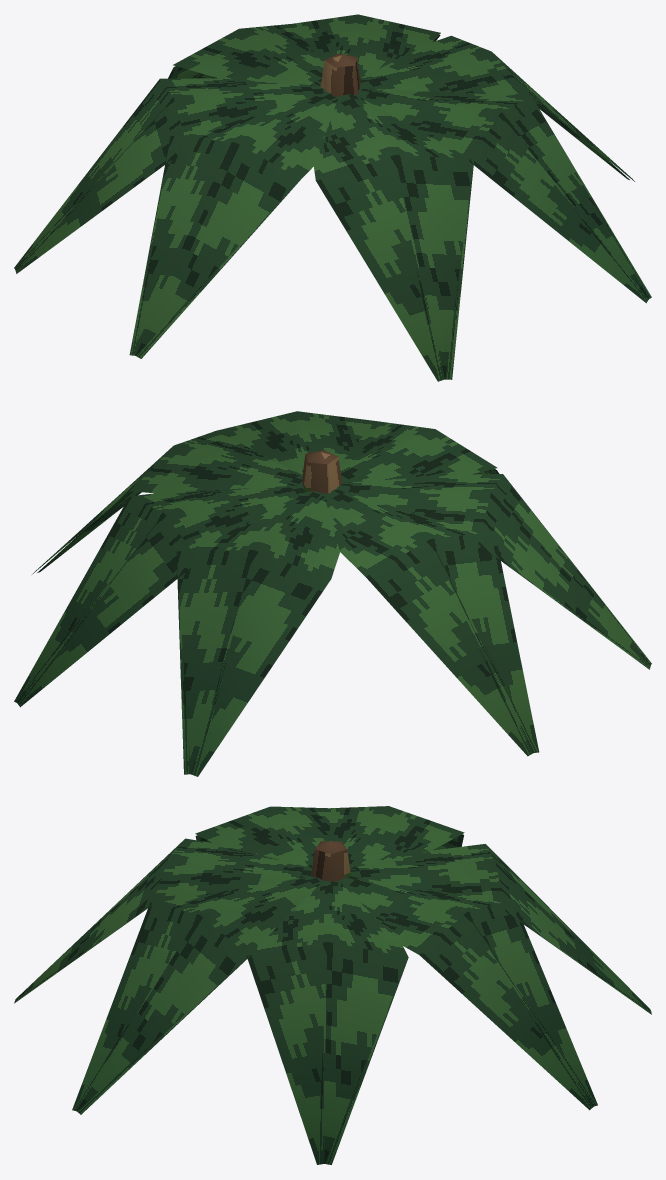
The model's file is wild.shrub__broadleaf.glb.
3 renders of one model, top to bottom at view 1: azimuth 30°, elevation 25°; view 2: azimuth 150°, elevation 25°; view 3: azimuth 270°, elevation 25°, orthographic. The views are drawn at different scales.
Visible parts, largest first — view 1: kit_shell_leaves, kit_stem; view 2: kit_shell_leaves, kit_stem; view 3: kit_shell_leaves, kit_stem.
Boxes of the visible parts, left/top/right/bottom form: kit_shell_leaves: left=14, top=14, right=651, bottom=381; kit_stem: left=320, top=53, right=360, bottom=96; kit_shell_leaves: left=14, top=411, right=651, bottom=776; kit_stem: left=302, top=450, right=342, bottom=493; kit_shell_leaves: left=14, top=806, right=651, bottom=1164; kit_stem: left=311, top=841, right=350, bottom=881.
Bounding box in the file's own units: 2.65 × 0.8768 × 2.69.
Materials: 2 (2 with a texture image).
